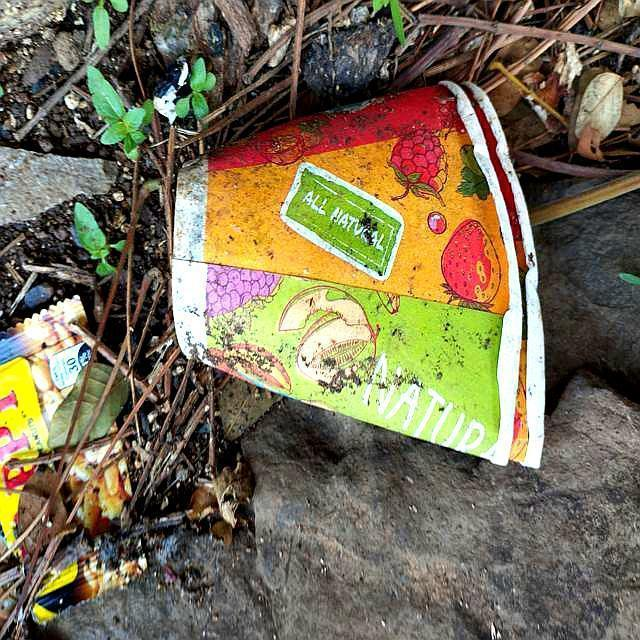Biodegradable: (173, 87, 547, 475)
